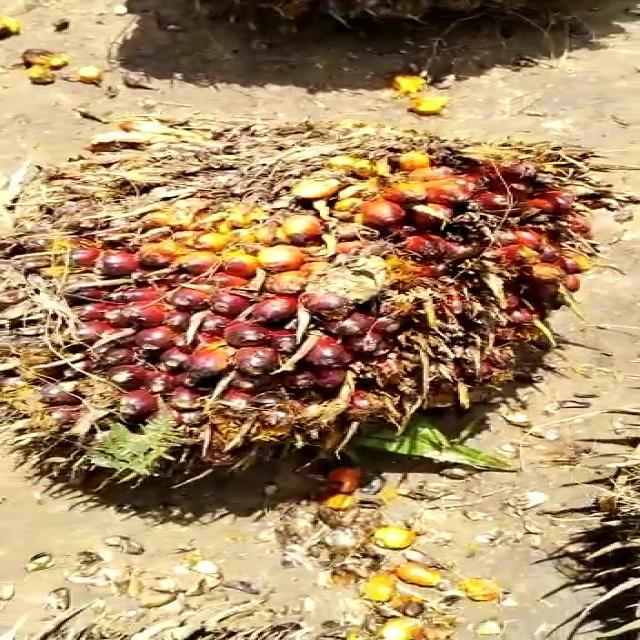palm oil: (0, 82, 627, 511)
